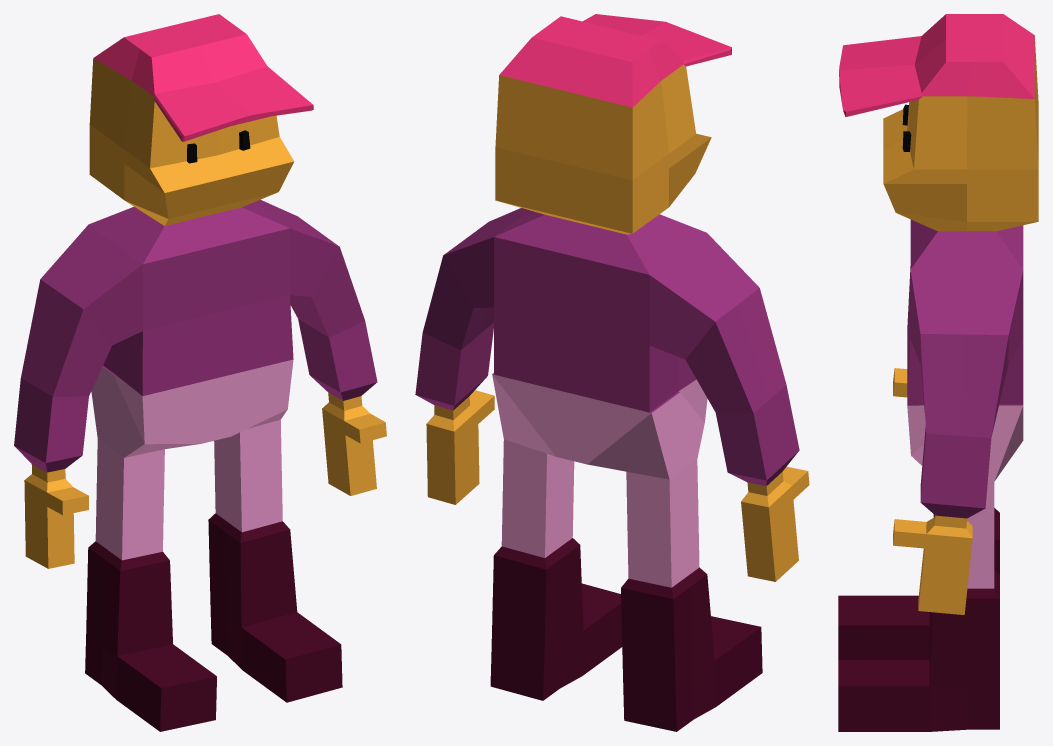
Rendered from HumanCap3.fbx.
3 views of the same model, side by side, from view 1: azimuth 30°, elevation 25°; view 2: azimuth 150°, elevation 25°; view 3: azimuth 270°, elevation 25° (orthographic). The views are drawn at different scales.
Parts seen in each view (by area): view 1: HatHuman.001; view 2: HatHuman.001; view 3: HatHuman.001.
Part boxes in pixels (x1=…): HatHuman.001: x1=14, y1=14, x2=386, y2=731; HatHuman.001: x1=415, y1=14, x2=809, y2=731; HatHuman.001: x1=838, y1=14, x2=1038, y2=731.
Bounding box in the file's own units: 227 × 409 × 114.
